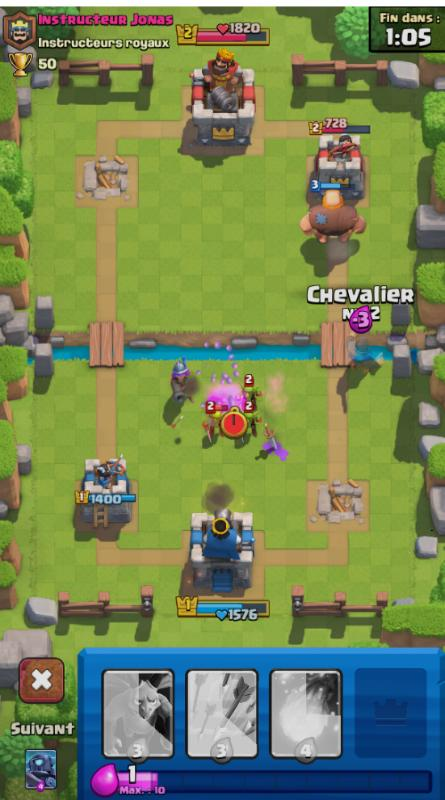geant: (298, 186, 372, 246), (164, 359, 193, 413)
gobelin: (235, 400, 264, 441), (202, 401, 227, 440), (236, 373, 263, 407)
